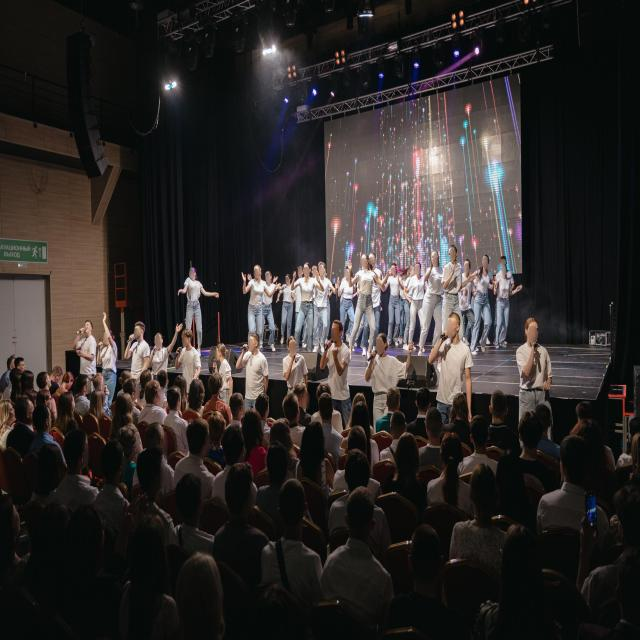Person: (326, 481, 388, 633), (113, 508, 176, 640), (60, 505, 118, 637), (262, 476, 322, 597), (542, 427, 596, 551), (423, 306, 477, 422), (164, 548, 229, 640), (222, 456, 268, 586), (392, 518, 445, 629), (602, 482, 640, 631), (458, 466, 510, 564), (512, 315, 556, 422), (175, 471, 221, 563), (134, 446, 174, 548), (364, 333, 412, 414), (0, 480, 28, 605), (325, 317, 355, 423), (340, 446, 380, 523), (218, 426, 255, 508), (178, 417, 215, 496), (30, 437, 65, 520), (180, 262, 214, 346), (511, 406, 545, 486), (102, 439, 128, 531), (440, 243, 464, 342), (430, 441, 464, 507), (66, 426, 94, 504), (396, 430, 423, 510), (100, 313, 122, 411), (243, 262, 267, 351), (112, 393, 142, 464), (310, 260, 332, 356), (357, 253, 377, 354), (423, 249, 443, 349), (464, 409, 494, 475), (124, 310, 150, 385), (294, 262, 315, 354), (240, 334, 266, 408), (267, 417, 295, 483), (461, 255, 478, 363), (303, 419, 329, 487), (368, 252, 386, 350), (315, 390, 341, 457), (493, 264, 512, 354), (475, 254, 492, 354), (283, 336, 311, 396), (534, 396, 562, 456), (259, 269, 278, 354), (266, 442, 292, 502), (148, 321, 176, 375), (486, 385, 512, 443), (410, 261, 426, 355), (144, 422, 174, 472), (181, 326, 204, 391), (75, 315, 98, 376), (32, 407, 56, 465), (212, 343, 235, 403), (278, 393, 303, 448), (340, 265, 356, 349), (383, 410, 410, 455), (16, 393, 36, 451), (346, 420, 371, 466), (245, 400, 265, 457), (387, 261, 400, 348), (182, 374, 208, 417), (404, 264, 416, 354), (423, 406, 443, 459), (144, 370, 164, 422), (350, 388, 372, 435), (380, 388, 406, 427), (95, 370, 114, 421), (166, 387, 186, 434), (281, 272, 294, 343), (414, 385, 432, 435), (295, 265, 305, 351), (1, 401, 19, 444), (60, 391, 78, 430), (624, 408, 640, 448), (293, 383, 311, 418), (499, 255, 516, 292), (578, 391, 600, 419), (73, 372, 92, 402), (312, 264, 318, 351), (136, 364, 154, 390), (41, 388, 55, 419), (51, 362, 67, 388), (38, 368, 51, 395), (22, 371, 36, 395), (62, 371, 78, 391), (16, 359, 34, 376), (123, 379, 139, 397), (159, 368, 172, 390), (6, 352, 16, 378), (117, 367, 133, 382)
